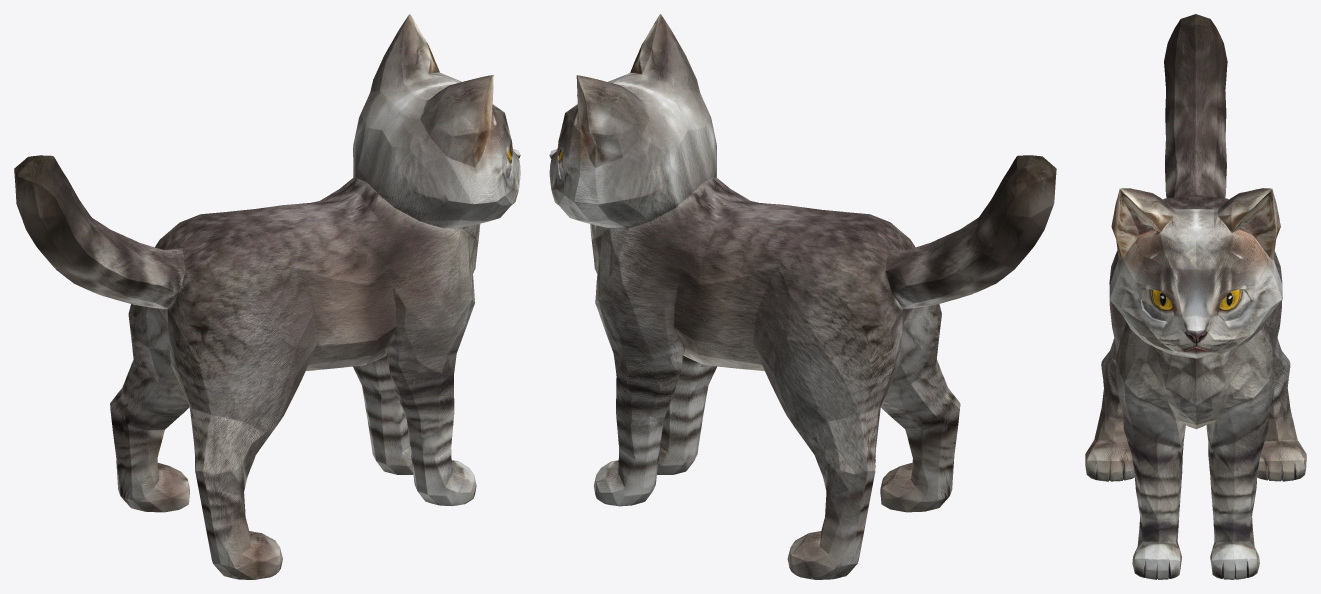
The model's file is GLINTPAW.glb.
3 renders of one model, left to right at view 1: azimuth 30°, elevation 25°; view 2: azimuth 150°, elevation 25°; view 3: azimuth 270°, elevation 25°, orthographic. The views are drawn at different scales.
Visible parts, largest first — view 1: fit; view 2: fit; view 3: fit.
Part boxes in pixels (box(x1,y1,x2,y2)): fit: box(14, 14, 520, 579); fit: box(549, 14, 1056, 579); fit: box(1085, 14, 1306, 579).
Size of the model in its own units: 1.22 by 0.9998 by 0.5086.
Materials: 1 (1 with a texture image).
